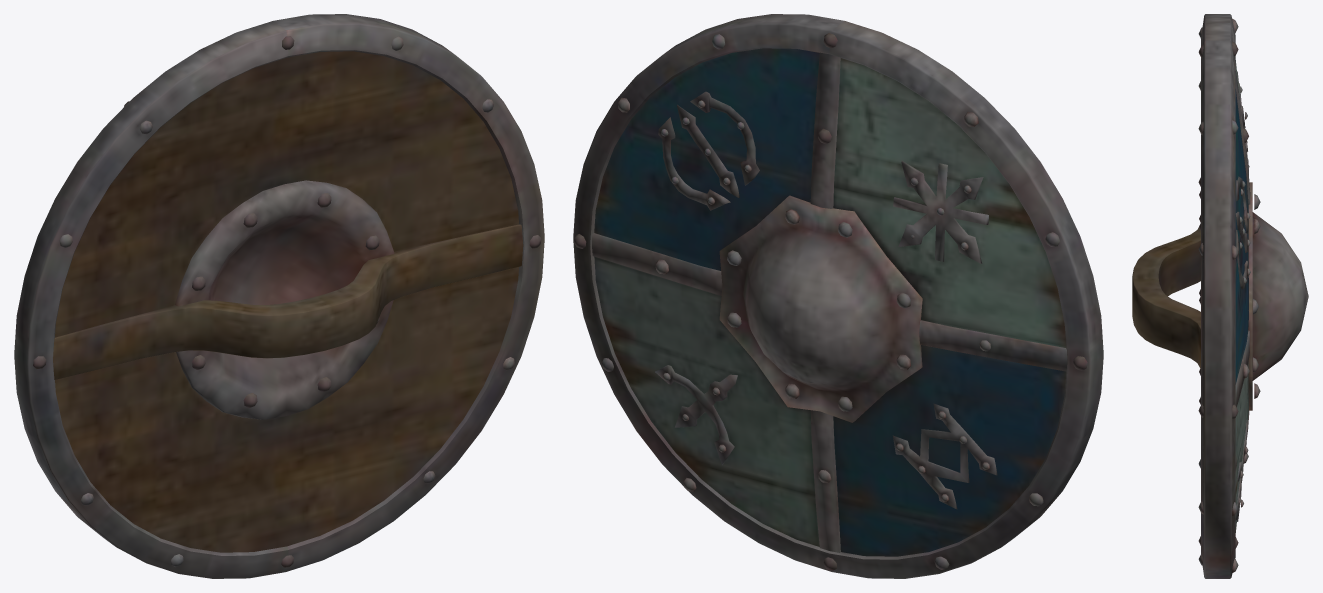
The model's file is weapon-wp_a_2111.glb.
The picture shows the model from 3 angles, left to right: view 1: azimuth 30°, elevation 25°; view 2: azimuth 150°, elevation 25°; view 3: azimuth 270°, elevation 25°; orthographic projection. The views are drawn at different scales.
Parts seen in each view (by area): view 1: wp_a_2111_mesh; view 2: wp_a_2111_mesh; view 3: wp_a_2111_mesh.
Boxes of the visible parts, x1,y1,x2,y2 form: wp_a_2111_mesh: (14, 14, 544, 578); wp_a_2111_mesh: (573, 14, 1103, 578); wp_a_2111_mesh: (1132, 14, 1308, 578).
Bounding box in the file's own units: 0.4406 × 0.4406 × 0.1376.
Materials: 1 (1 with a texture image).
